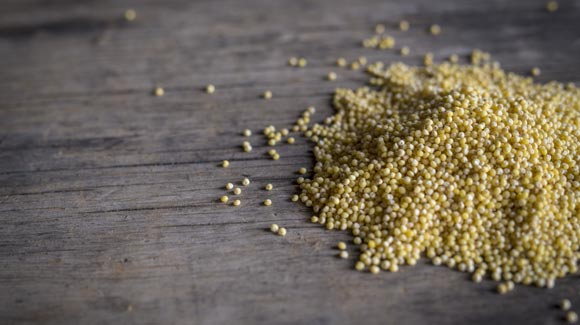seed: (280, 39, 580, 298)
